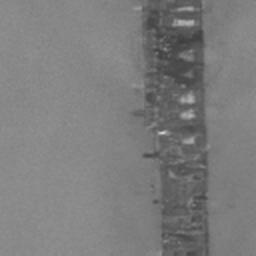Slag inclusion: (128, 0, 210, 256)
